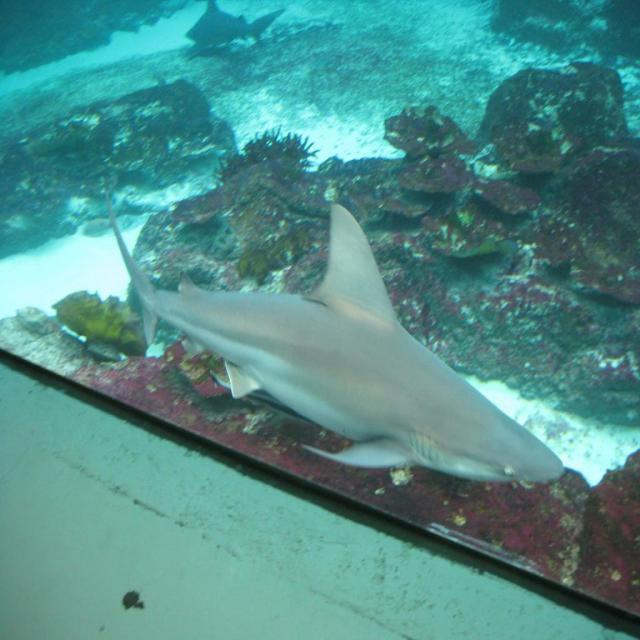Shark: (105, 193, 566, 480)
